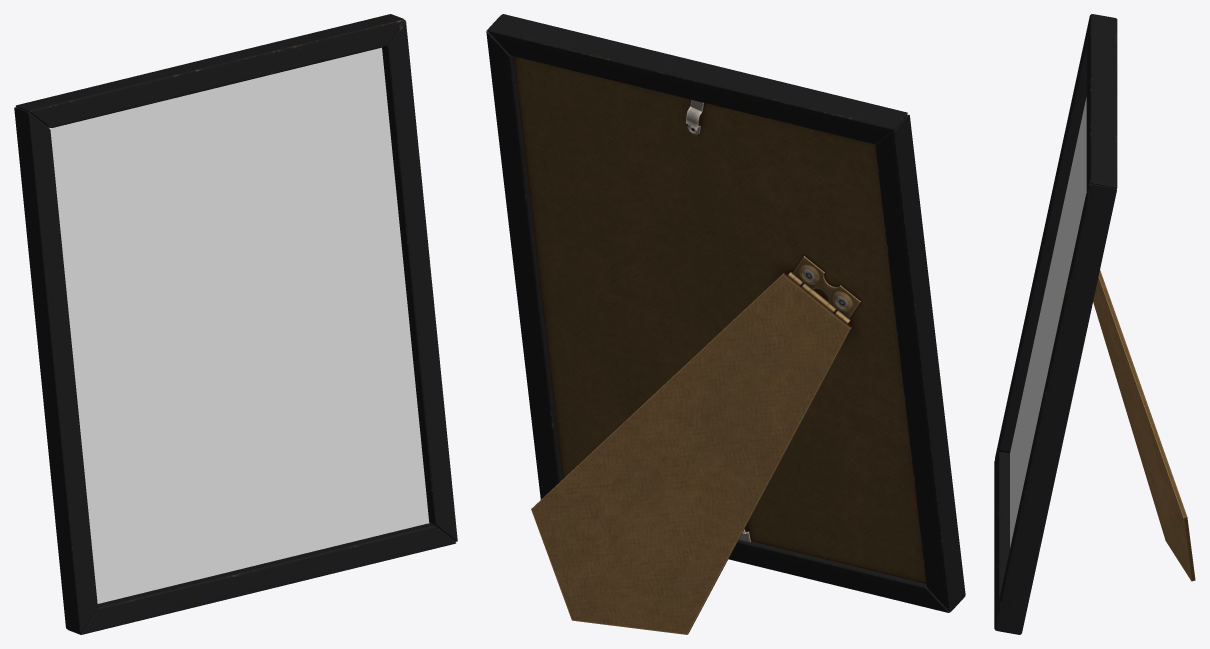
The model's file is standing_picture_frame_01_1k.fbx.
3 renders of one model, left to right at view 1: azimuth 30°, elevation 25°; view 2: azimuth 150°, elevation 25°; view 3: azimuth 270°, elevation 25°, orthographic. The views are drawn at different scales.
Visible parts, largest first — view 1: standing_picture_frame_01; view 2: standing_picture_frame_01; view 3: standing_picture_frame_01.
Boxes of the visible parts, x1,y1,x2,y2 form: standing_picture_frame_01: (14, 14, 457, 634); standing_picture_frame_01: (486, 14, 965, 634); standing_picture_frame_01: (994, 14, 1195, 634).
Size of the model in its own units: 20.08 by 24.97 by 10.03.
Materials: 3 (2 with a texture image).
